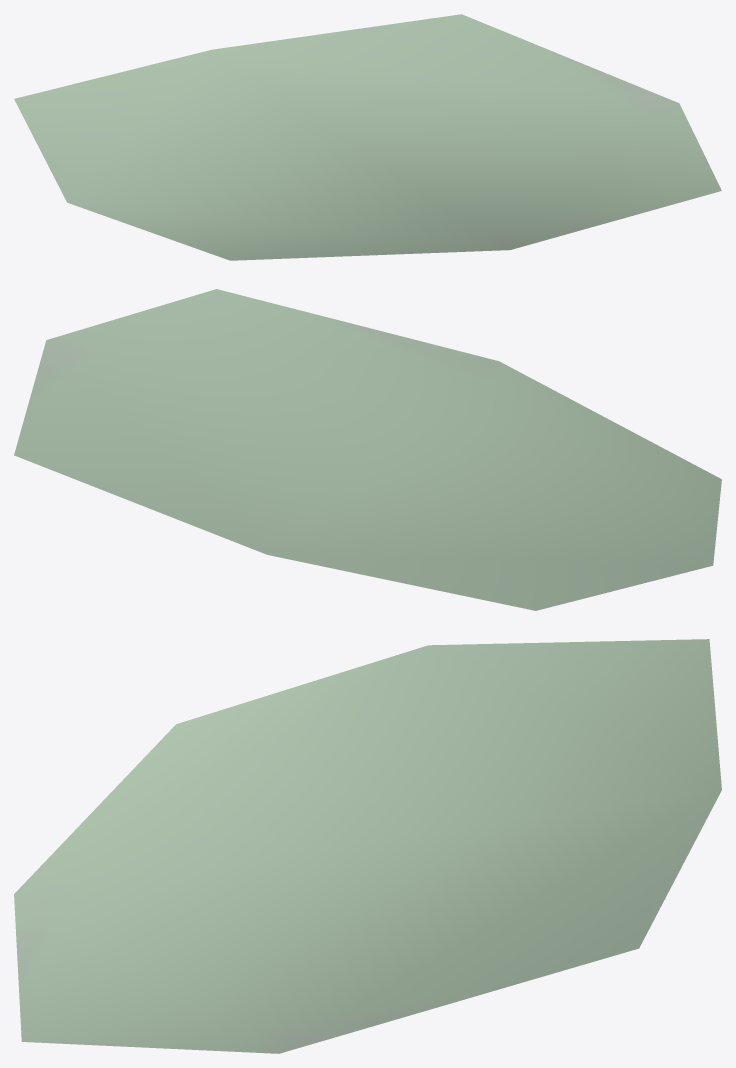
Rendered from TROLLHOLE02_HOLECAP69.fbx.
The picture shows the model from 3 angles, top to bottom: view 1: azimuth 30°, elevation 25°; view 2: azimuth 150°, elevation 25°; view 3: azimuth 270°, elevation 25°; orthographic projection. The views are drawn at different scales.
Visible parts, largest first — view 1: TROLLHOLE02_HOLECAP69; view 2: TROLLHOLE02_HOLECAP69; view 3: TROLLHOLE02_HOLECAP69.
Boxes of the visible parts, <box> form: TROLLHOLE02_HOLECAP69: <box>14,14,721,260</box>; TROLLHOLE02_HOLECAP69: <box>14,289,721,610</box>; TROLLHOLE02_HOLECAP69: <box>14,639,721,1053</box>.
Size of the model in its own units: 27387 by 2039 by 20119.
1 material, 1 textured.
